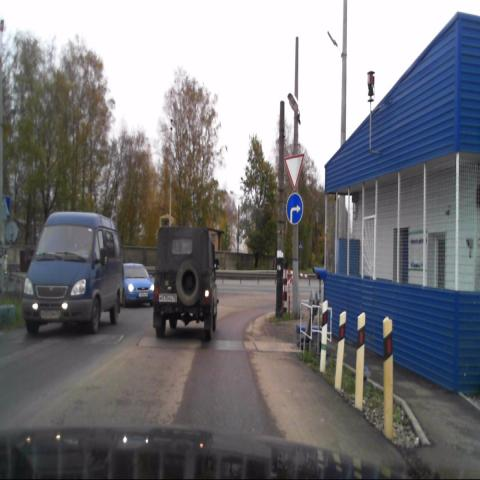4_1_2: (286, 192, 303, 225)
